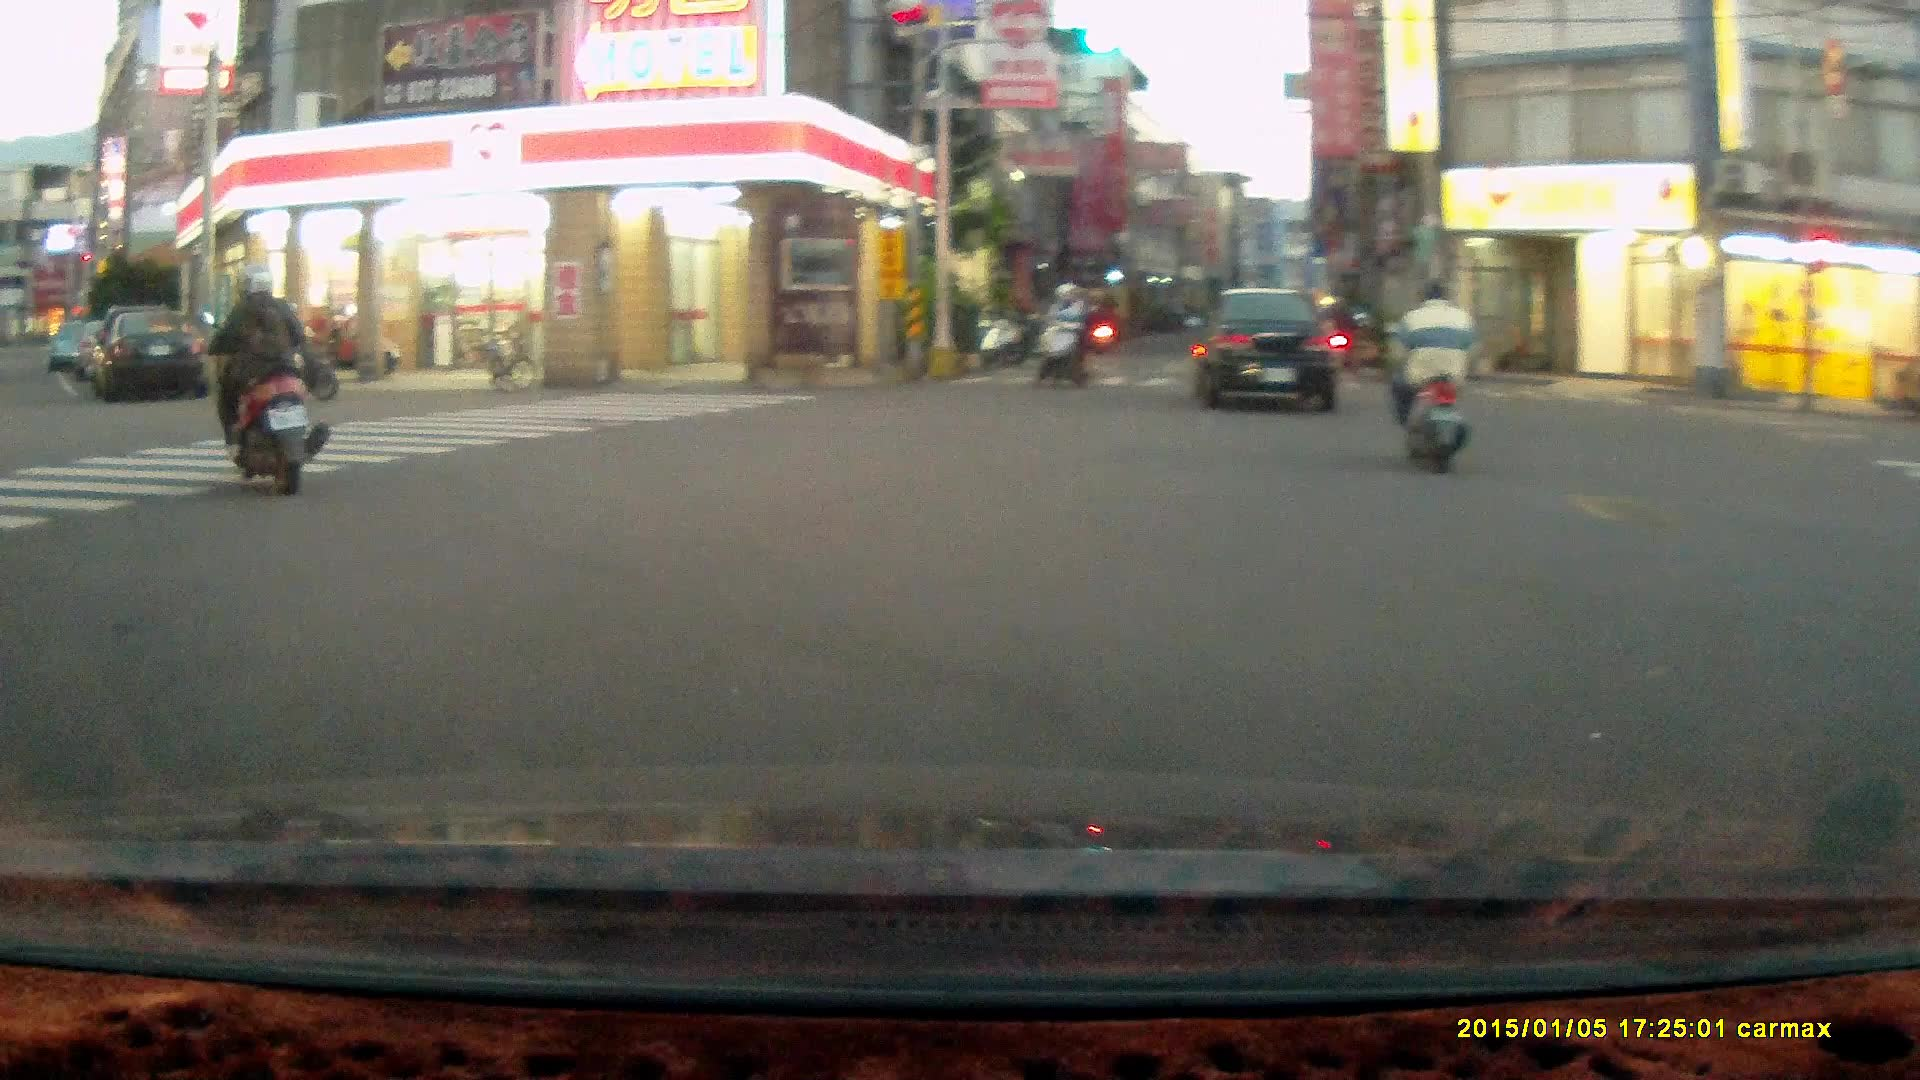rider: (202, 266, 331, 497), (1388, 277, 1480, 476), (1035, 280, 1094, 389)
vehicle: (1196, 287, 1347, 418), (101, 308, 222, 402)
